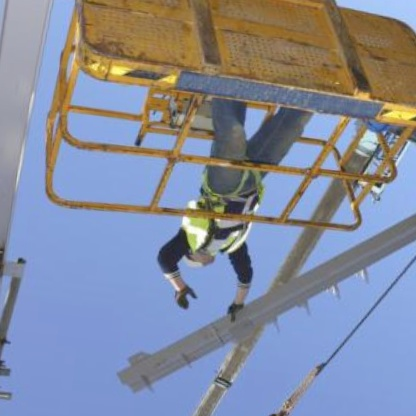vest: (172, 181, 270, 265)
